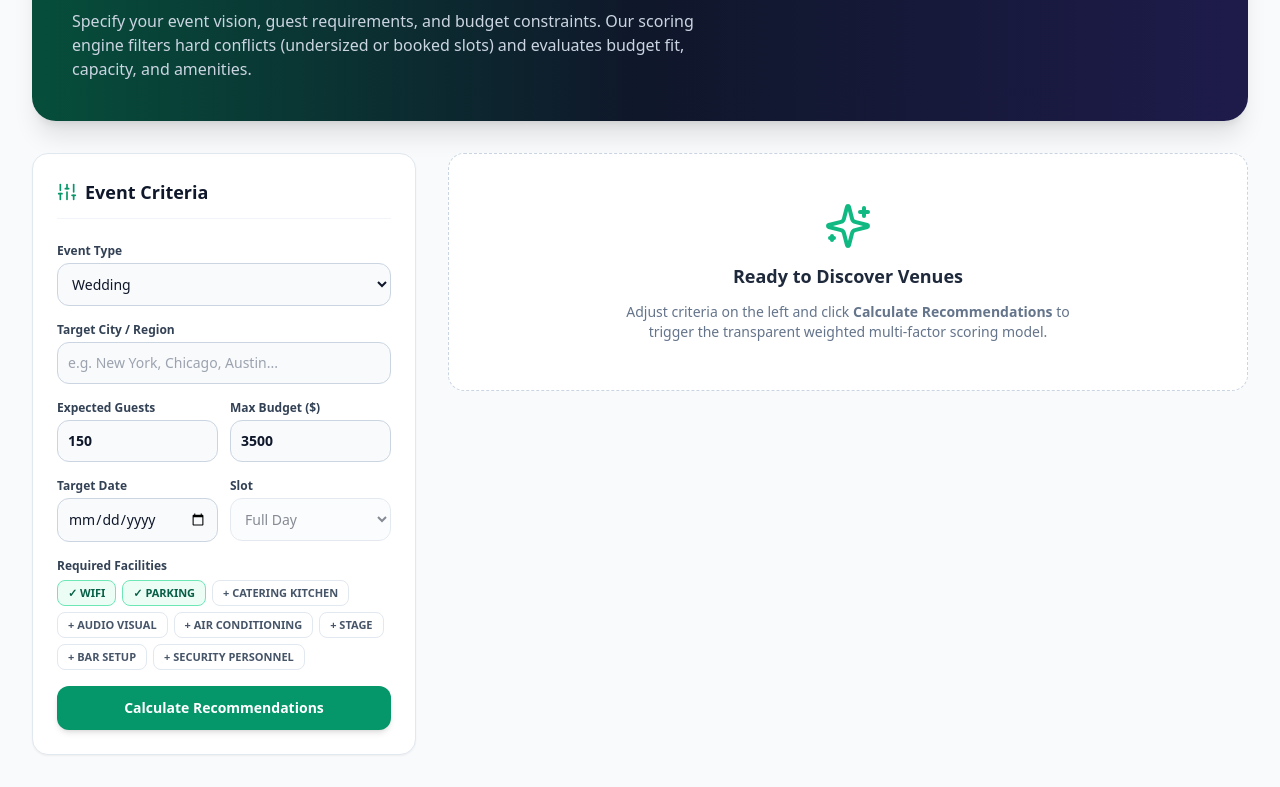
Test: RecommendationsPage Component › queries recommendations and displays ranked score breakdown and explanation
The width and height of the screenshot is (1280, 787).
(page scrolled)
Click the button "Calculate Recommendations" at (224, 708), box [57,686,391,730]
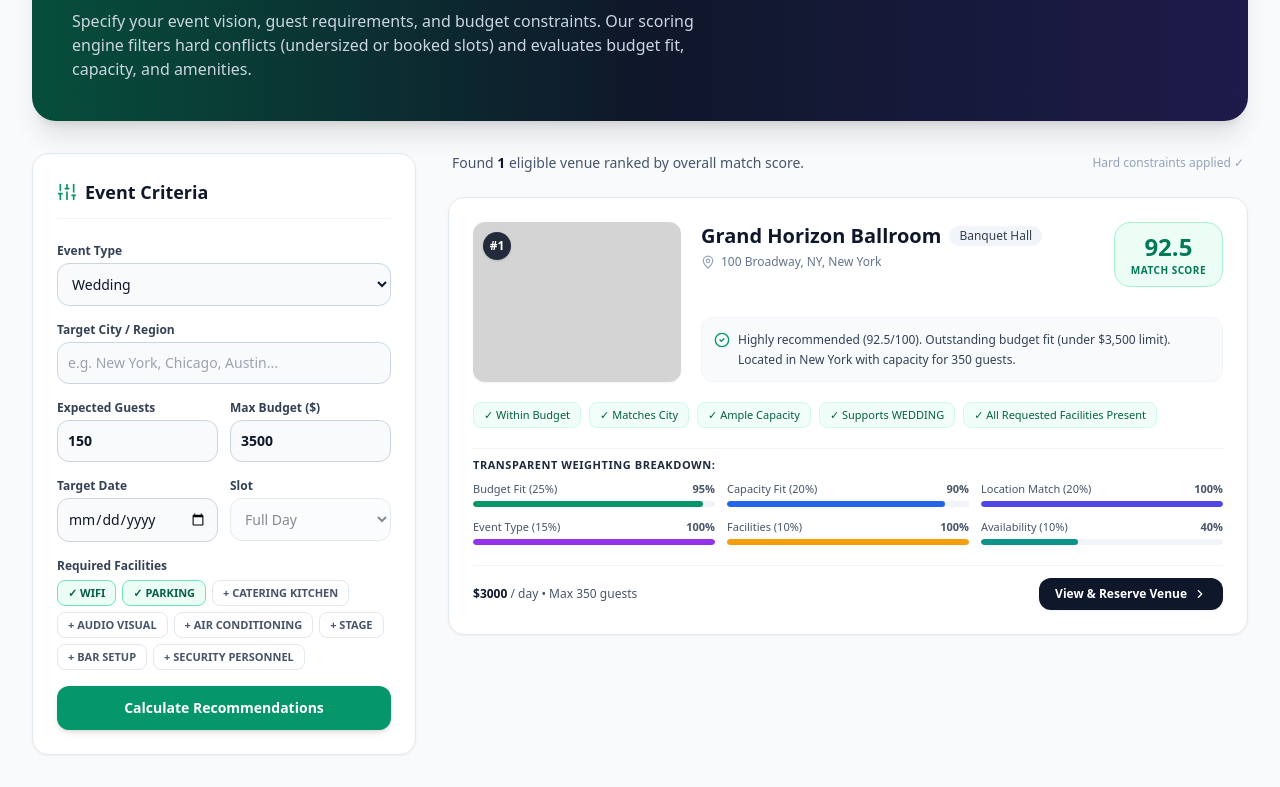
Expected: the heading "Grand Horizon Ballroom" is shown, [701,222,941,250]
Expected: the text "92.5" is shown, [1144,230,1192,263]
Expected: the text "Highly recommended (92.5/100)" is shown, [738,331,1170,368]
